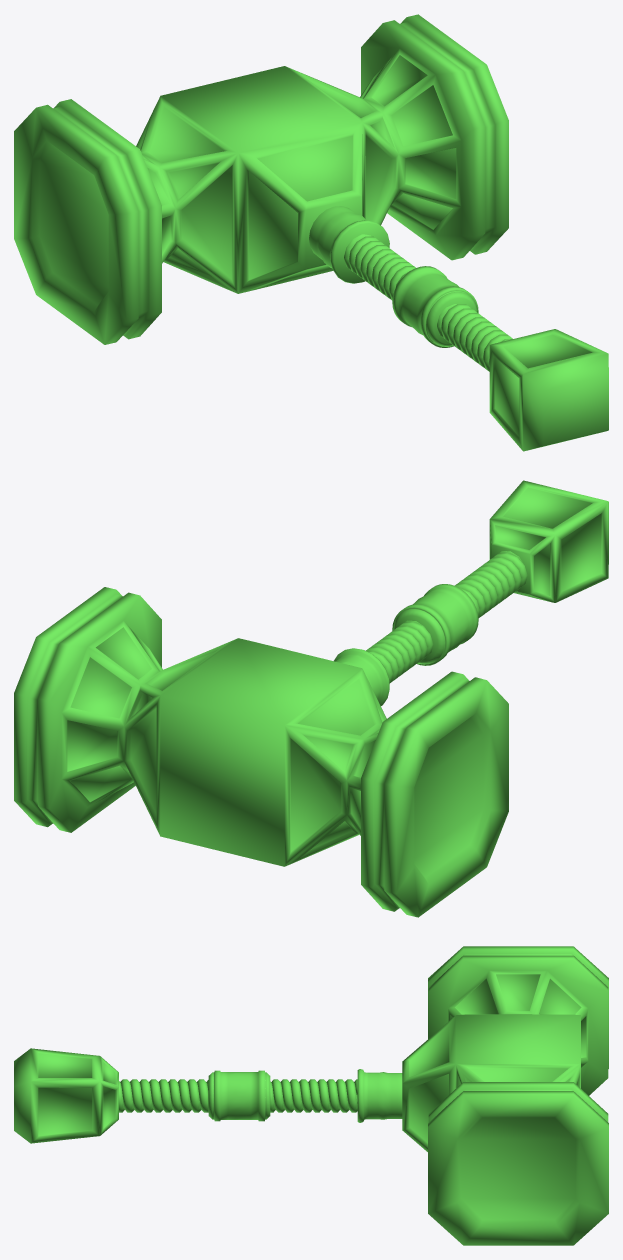
Rendered from çekiç_!.fbx.
3 renders of one model, top to bottom at view 1: azimuth 30°, elevation 25°; view 2: azimuth 150°, elevation 25°; view 3: azimuth 270°, elevation 25°, orthographic. The views are drawn at different scales.
Visible parts, largest first — view 1: Hammer 2; view 2: Hammer 2; view 3: Hammer 2.
Part boxes in pixels (<box>): Hammer 2: <box>14,14,608,451</box>; Hammer 2: <box>14,480,608,917</box>; Hammer 2: <box>14,946,608,1245</box>.
Bounding box in the file's own units: 35.62 × 16.68 × 59.92.
